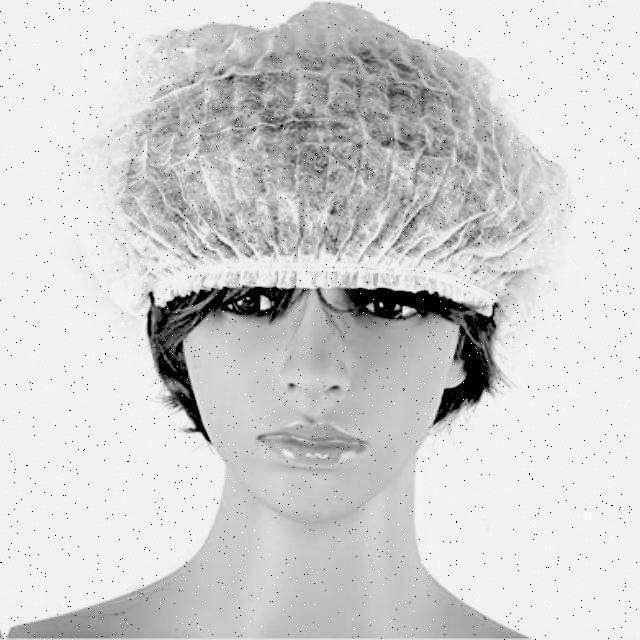gloves: (72, 5, 571, 316)
no_hairnet: (224, 343, 394, 484)
